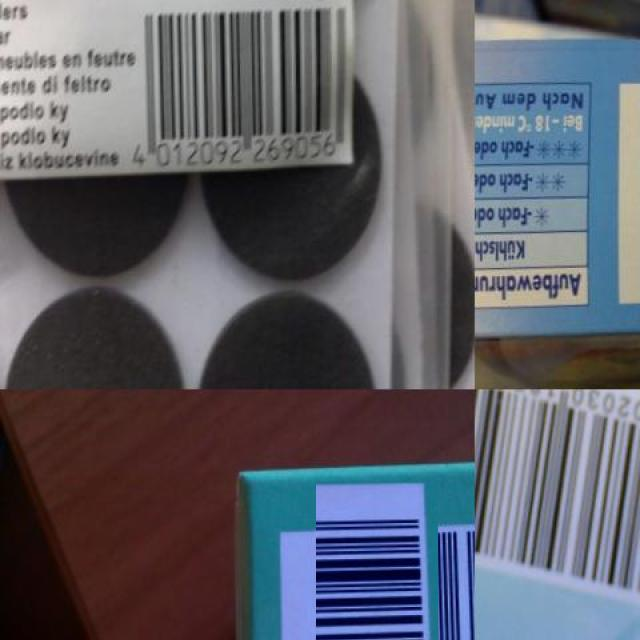Barcode: (127, 0, 357, 167), (475, 389, 640, 618), (298, 499, 457, 640)
